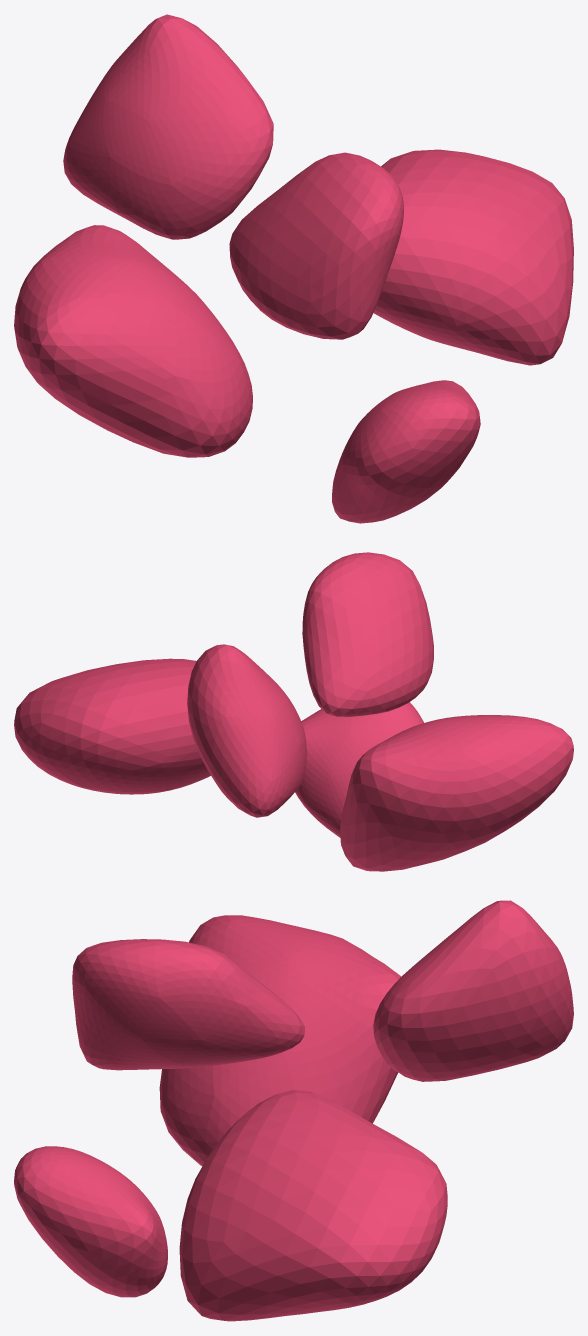
Rendered from pedrafrag.fbx.
The picture shows the model from 3 angles, top to bottom: view 1: azimuth 30°, elevation 25°; view 2: azimuth 150°, elevation 25°; view 3: azimuth 270°, elevation 25°; orthographic projection. The views are drawn at different scales.
Visible parts, largest first — view 1: Icosphere.001; view 2: Icosphere.001; view 3: Icosphere.001.
Part boxes in pixels (<box>): Icosphere.001: <box>14,14,573,523</box>; Icosphere.001: <box>14,552,573,871</box>; Icosphere.001: <box>14,900,573,1321</box>.
Size of the model in its own units: 4.45 by 2.7 by 3.59.
